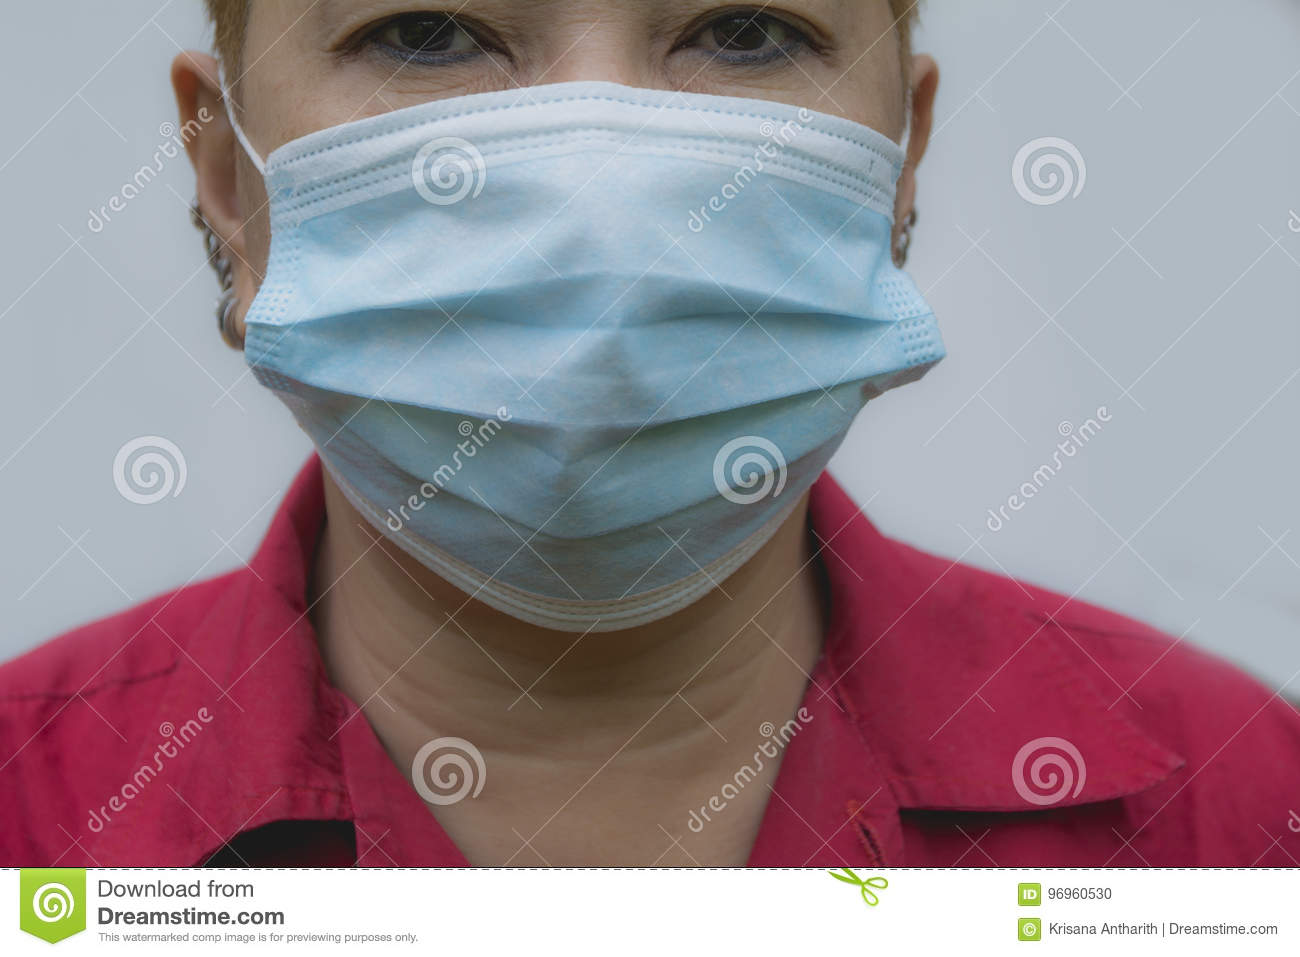mask: (241, 72, 944, 638)
